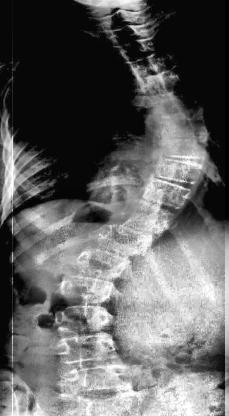Vertebrae: (55, 360, 136, 394), (114, 200, 188, 234), (68, 244, 134, 282), (50, 332, 122, 364), (93, 222, 155, 258), (138, 176, 196, 212), (148, 154, 209, 188), (148, 110, 212, 141), (57, 274, 119, 306), (50, 303, 116, 332), (152, 133, 212, 161), (119, 52, 178, 80), (142, 90, 204, 116), (130, 66, 184, 92), (102, 21, 162, 44), (114, 36, 172, 58), (96, 6, 158, 26)
